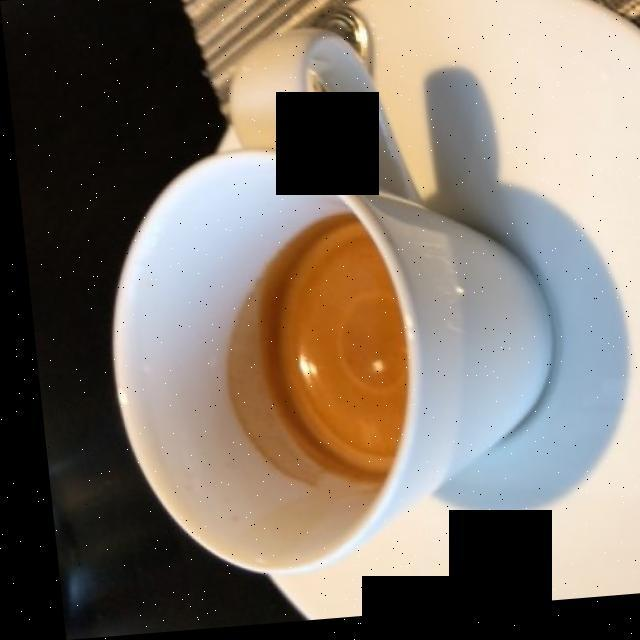espresso: (260, 228, 396, 491)
